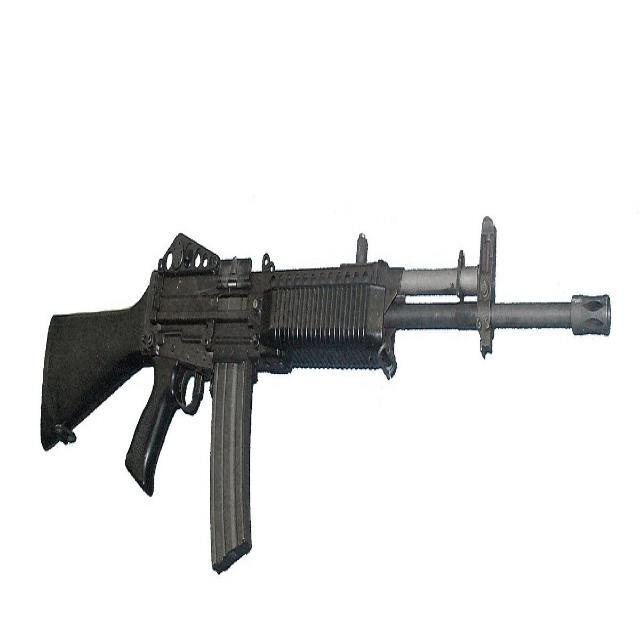weapon: (40, 213, 612, 576)
